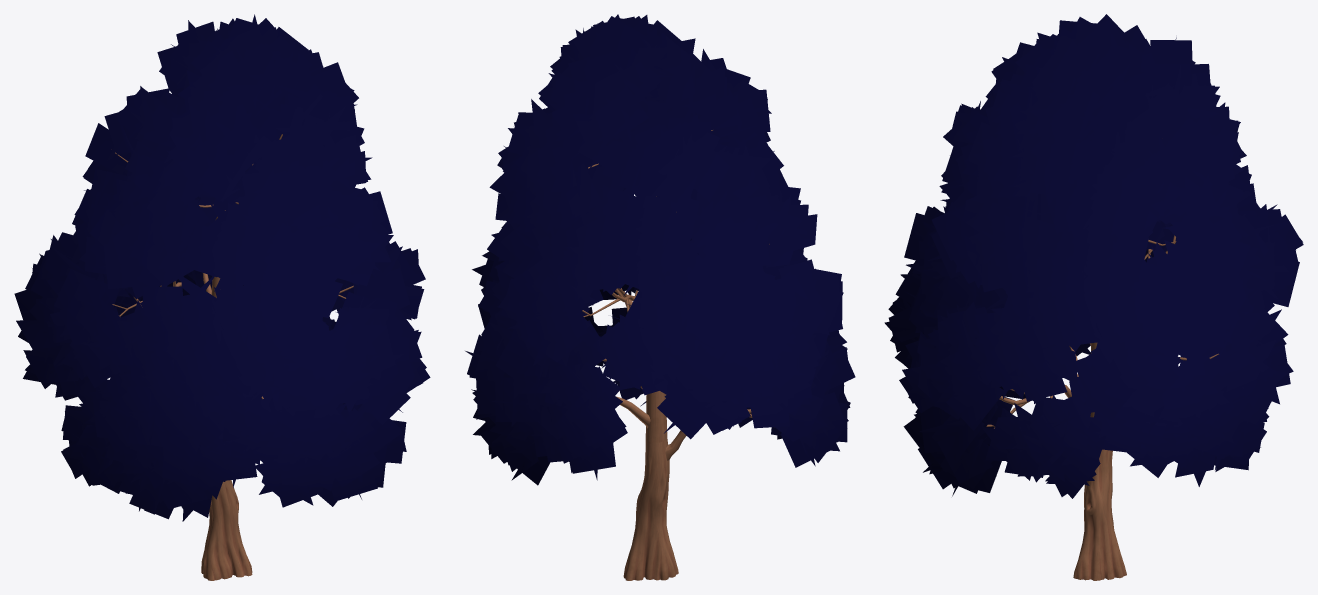
File: SM_OakTree_03.fbx
The picture shows the model from 3 angles, left to right: view 1: azimuth 30°, elevation 25°; view 2: azimuth 150°, elevation 25°; view 3: azimuth 270°, elevation 25°; orthographic projection. The views are drawn at different scales.
Visible parts, largest first — view 1: SM_OakTree_03_LOD0; view 2: SM_OakTree_03_LOD0; view 3: SM_OakTree_03_LOD0.
Part boxes in pixels (bbox=[...]): SM_OakTree_03_LOD0: bbox=[14, 14, 430, 580]; SM_OakTree_03_LOD0: bbox=[465, 14, 855, 580]; SM_OakTree_03_LOD0: bbox=[884, 14, 1303, 580].
Size of what is drawn, in the model's own units: 858 by 1290 by 867.
